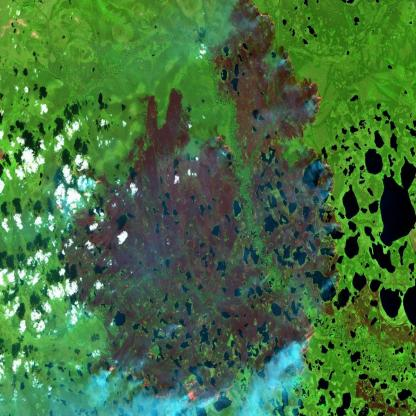fire: (208, 0, 328, 135), (88, 338, 274, 410), (298, 142, 351, 316), (292, 320, 321, 376), (213, 132, 238, 172)
